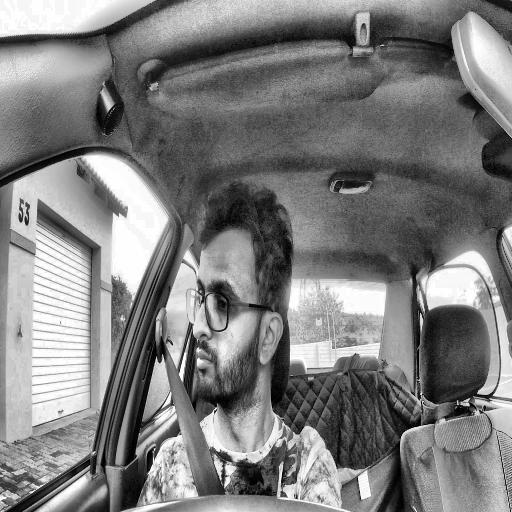awake: (185, 179, 295, 422)
